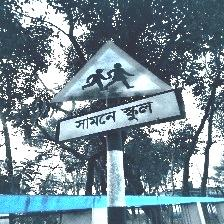School-in-front: (51, 40, 184, 144)
